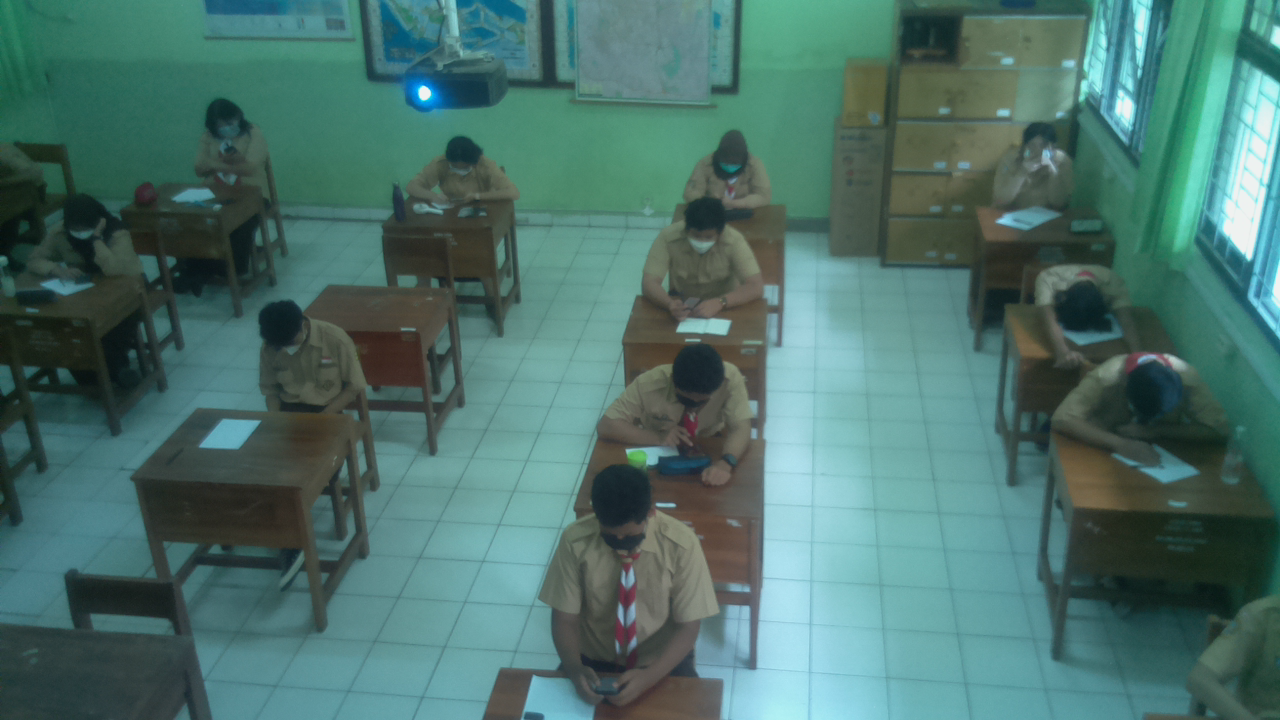Student: (551, 467, 707, 667), (1075, 349, 1216, 445), (627, 343, 751, 438), (251, 299, 352, 403), (655, 199, 753, 297), (45, 191, 139, 272), (1031, 259, 1130, 332), (993, 123, 1074, 205), (191, 99, 267, 182), (421, 137, 512, 198), (693, 127, 766, 200)
